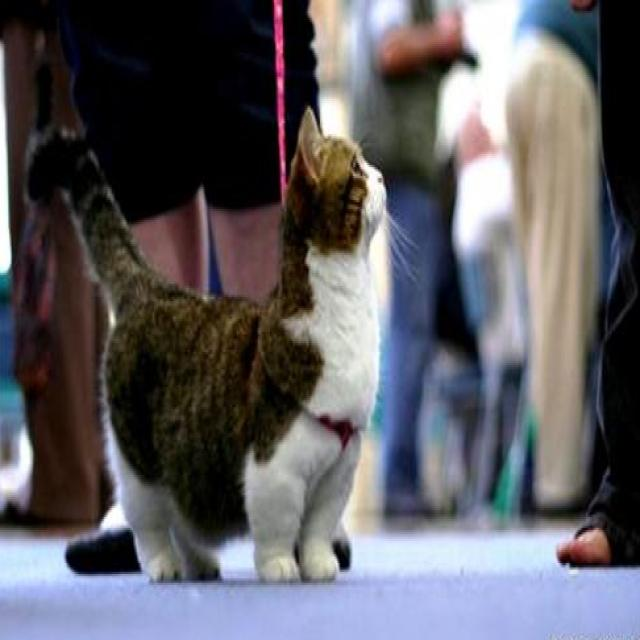Munchkin: (20, 100, 389, 592)
